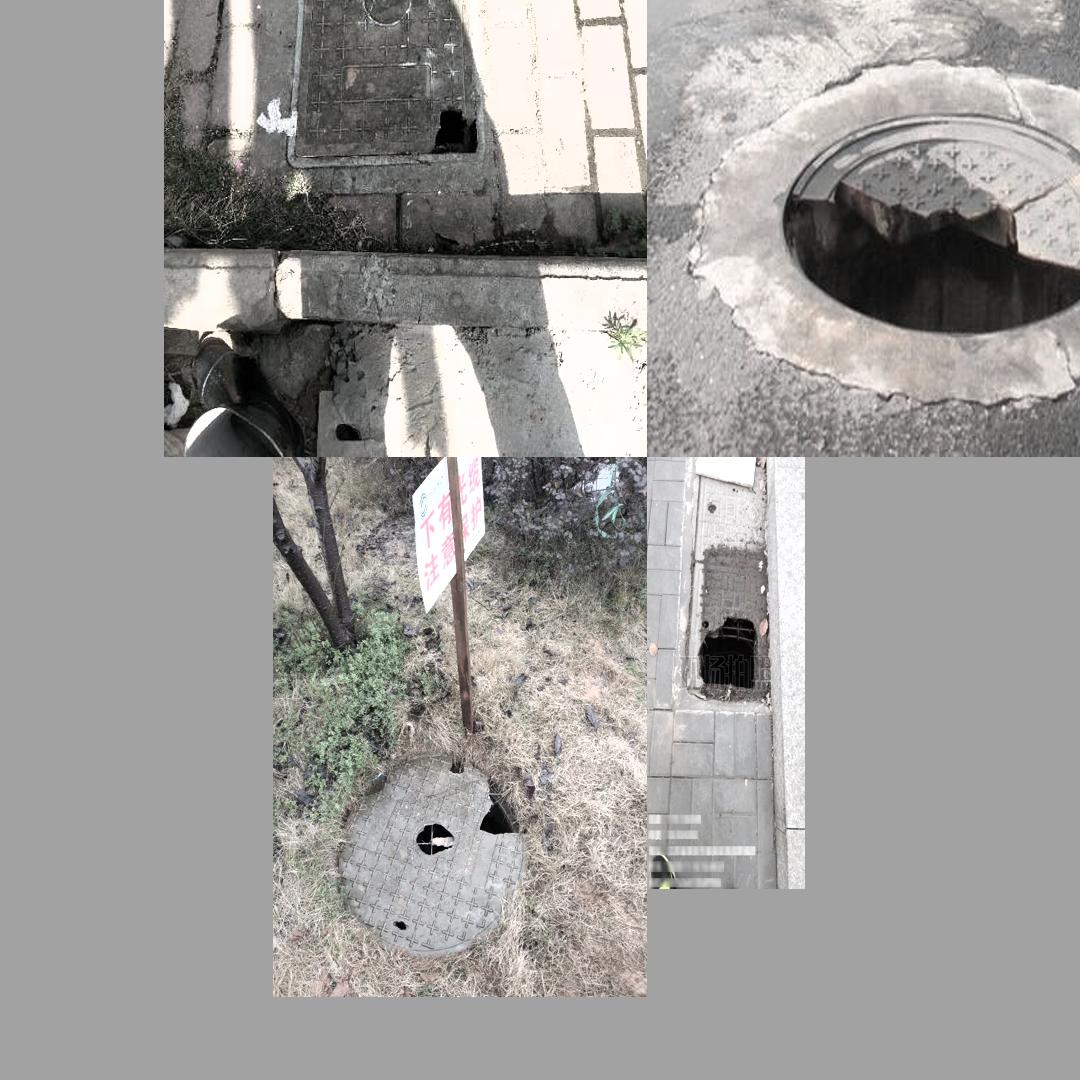broke: (702, 12, 1080, 420), (336, 751, 527, 955), (304, 0, 480, 166), (688, 513, 780, 706)
